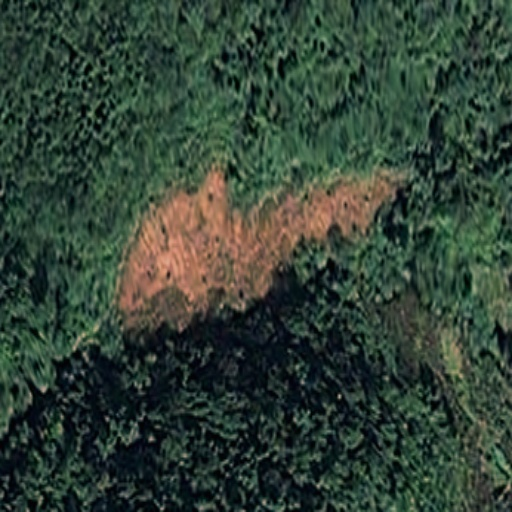landslide: (110, 164, 410, 327)
